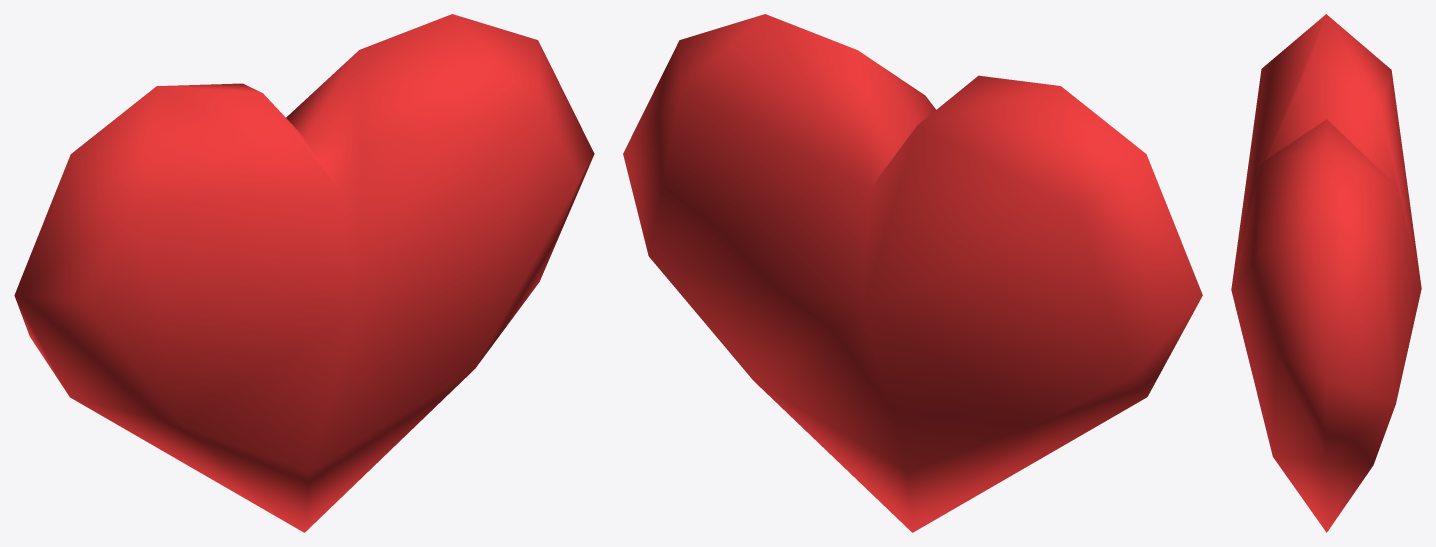
The model's file is heart.obj.
The picture shows the model from 3 angles, left to right: view 1: azimuth 30°, elevation 25°; view 2: azimuth 150°, elevation 25°; view 3: azimuth 270°, elevation 25°; orthographic projection. The views are drawn at different scales.
Visible parts, largest first — view 1: heart_shape0_material0; view 2: heart_shape0_material0; view 3: heart_shape0_material0.
Boxes of the visible parts, box(x1,y1,x2,y2) form: heart_shape0_material0: box(14, 14, 594, 532); heart_shape0_material0: box(623, 14, 1202, 532); heart_shape0_material0: box(1231, 14, 1421, 532).
Size of the model in its own units: 2.96 by 2.36 by 0.9015.
